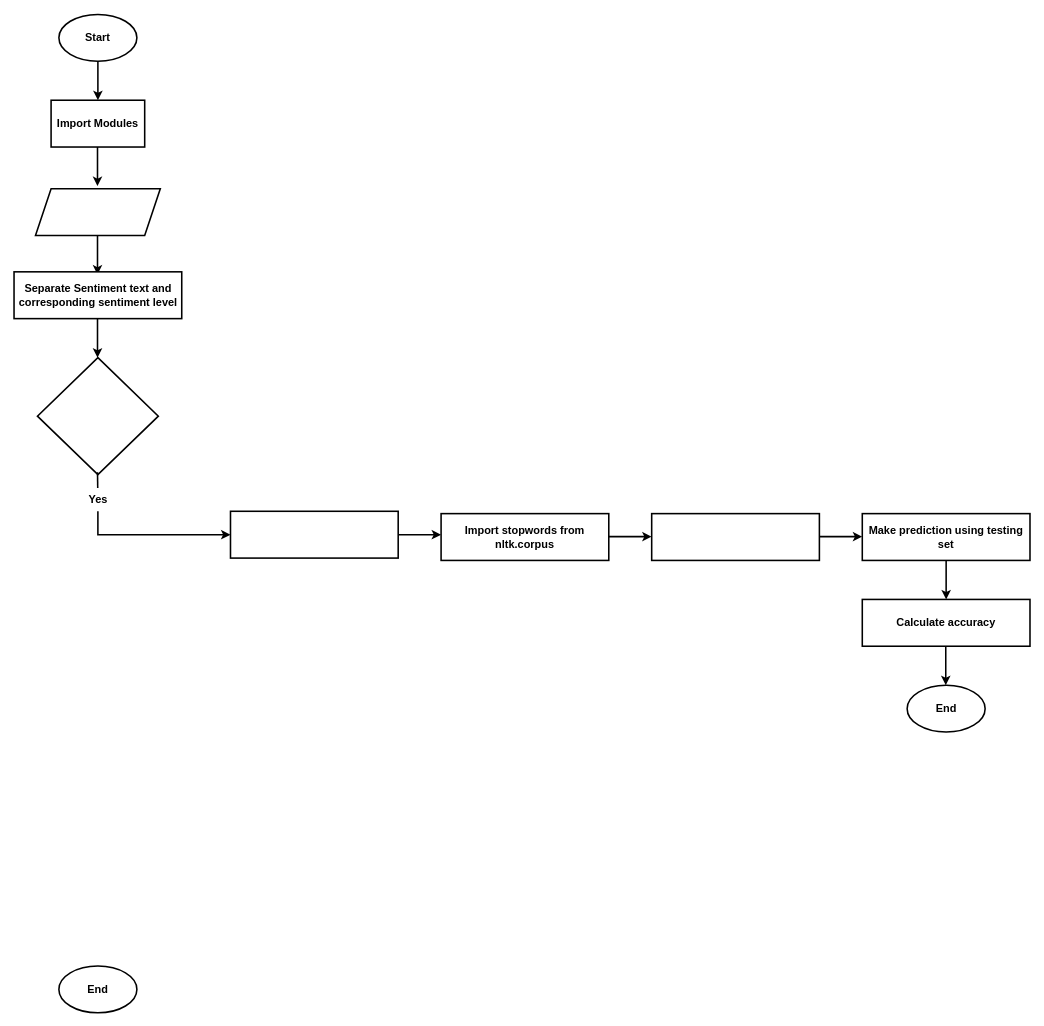
This 1044x1026 diagram has some shape labels left out. The shapes that lost their labels are listed below. From the top down, each one's box as (x1, y1, x2, y2) in pixels, then its label:
(34, 188, 161, 236): Read Dataset
(36, 356, 159, 475): If separated series are not empty
(229, 510, 399, 558): Split the series into training and testing set using sklearn
(651, 512, 820, 561): Fit the training set in MultinomialNB
